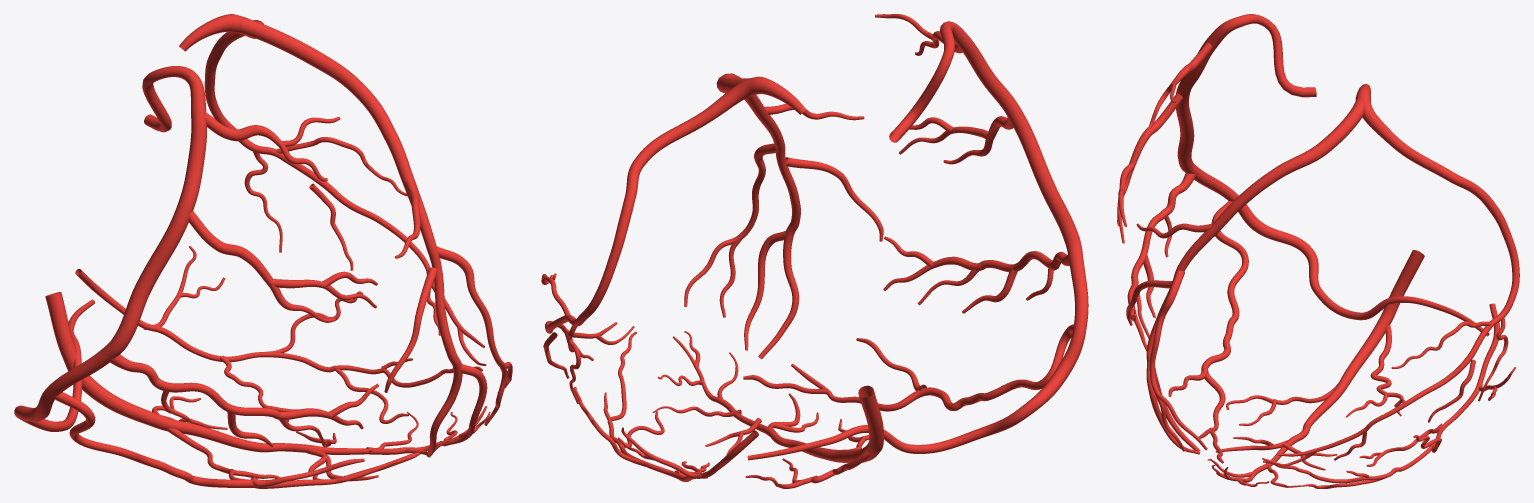
File: redoutervessel.glb
3 views of the same model, side by side, from view 1: azimuth 30°, elevation 25°; view 2: azimuth 150°, elevation 25°; view 3: azimuth 270°, elevation 25° (orthographic). The views are drawn at different scales.
Visible parts, largest first — view 1: c1.005; view 2: c1.005; view 3: c1.005.
Boxes of the visible parts, left/top/right/bottom form: c1.005: left=14, top=14, right=512, bottom=488; c1.005: left=541, top=14, right=1088, bottom=488; c1.005: left=1117, top=14, right=1519, bottom=488.
Bounding box in the file's own units: 3.15 × 2.92 × 2.85.
